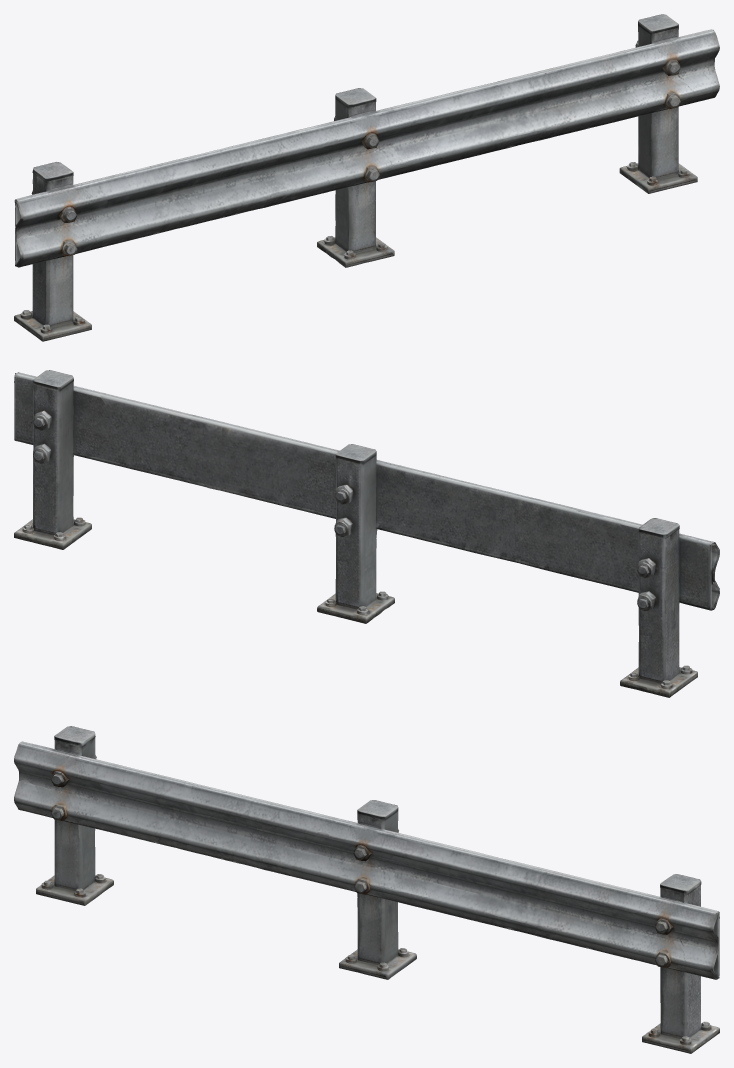
File: guardrail.glb
3 renders of one model, top to bottom at view 1: azimuth 30°, elevation 25°; view 2: azimuth 150°, elevation 25°; view 3: azimuth 330°, elevation 25°, orthographic.
Visible parts, largest first — view 1: guardrail; view 2: guardrail; view 3: guardrail.
Part boxes in pixels (<box>): guardrail: <box>14,14,719,341</box>; guardrail: <box>14,370,719,697</box>; guardrail: <box>14,726,719,1053</box>.
Size of the model in its own units: 4 by 0.85 by 0.35.
1 material, 1 textured.
